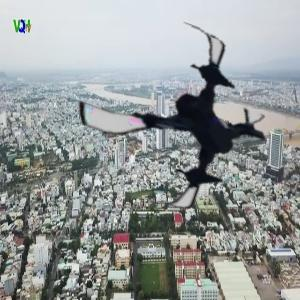drone: (79, 20, 274, 215)
